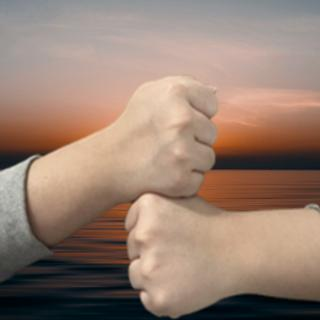CAREFUL: (56, 76, 311, 313)
